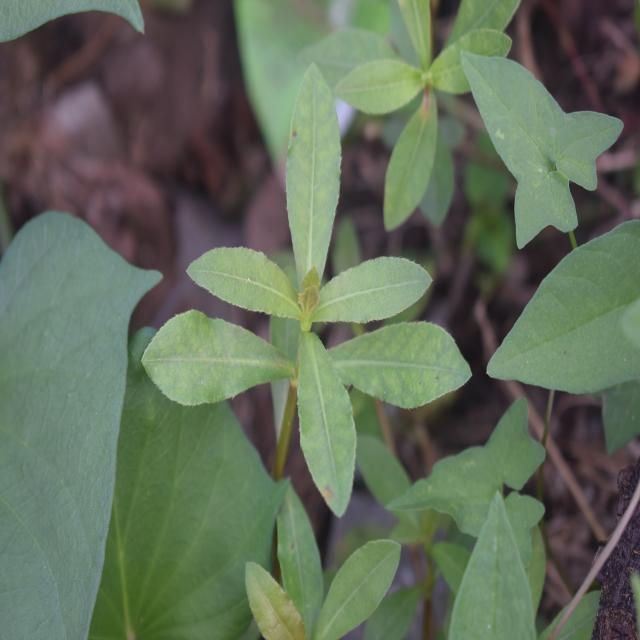Alligatorweed: (180, 95, 458, 515)
